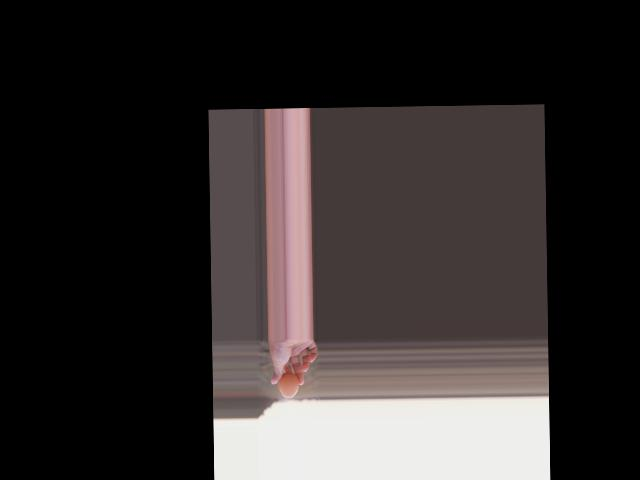egg: (278, 372, 299, 398)
